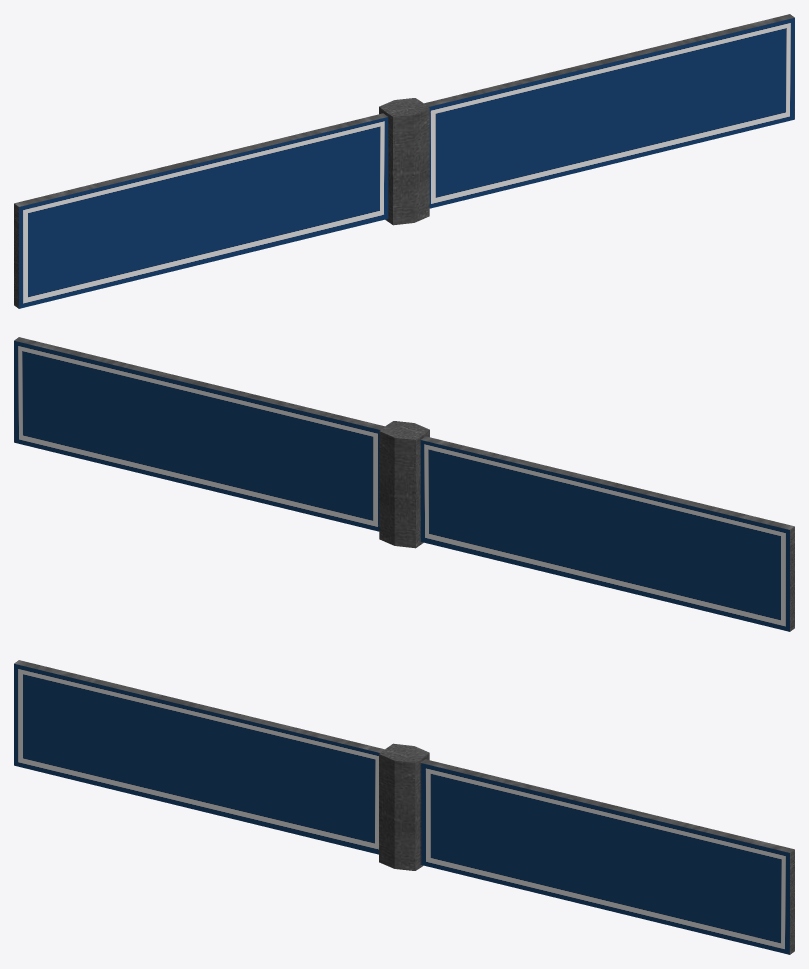
Rendered from VejNavneSkilte1.fbx.
The picture shows the model from 3 angles, top to bottom: view 1: azimuth 30°, elevation 25°; view 2: azimuth 150°, elevation 25°; view 3: azimuth 330°, elevation 25°; orthographic projection.
Parts seen in each view (by area): view 1: Cylinder; view 2: Cylinder; view 3: Cylinder.
Boxes of the visible parts, x1=… form: Cylinder: x1=14, y1=14, x2=794, y2=308; Cylinder: x1=14, y1=337, x2=794, y2=631; Cylinder: x1=14, y1=660, x2=794, y2=954.
Size of the model in its own units: 199 by 26.56 by 8.86.
